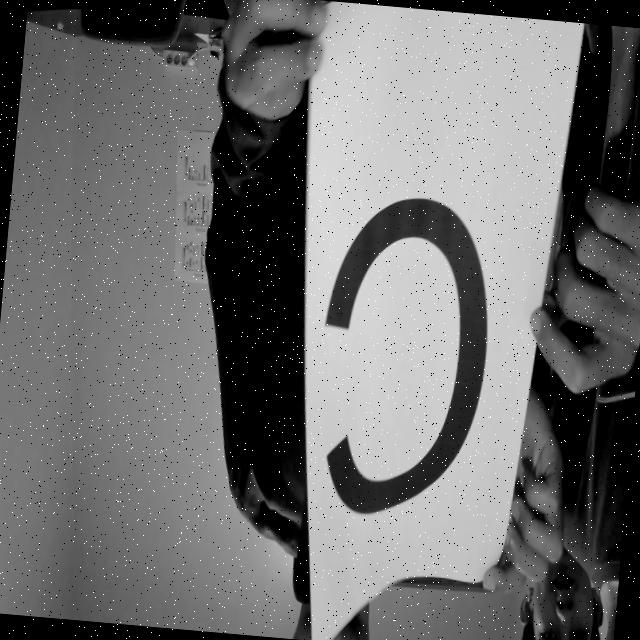c: (307, 152, 512, 523)
